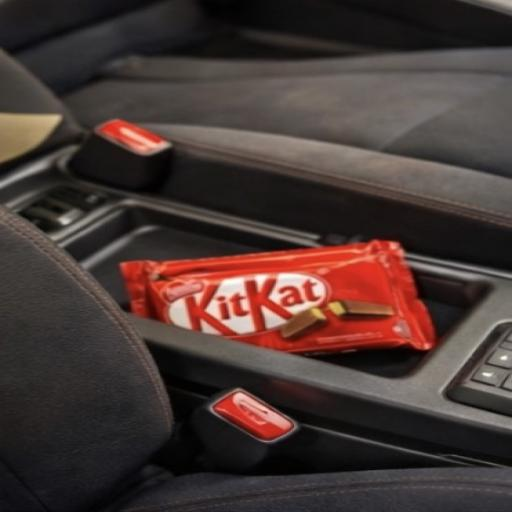kitkat: (77, 228, 478, 398)
